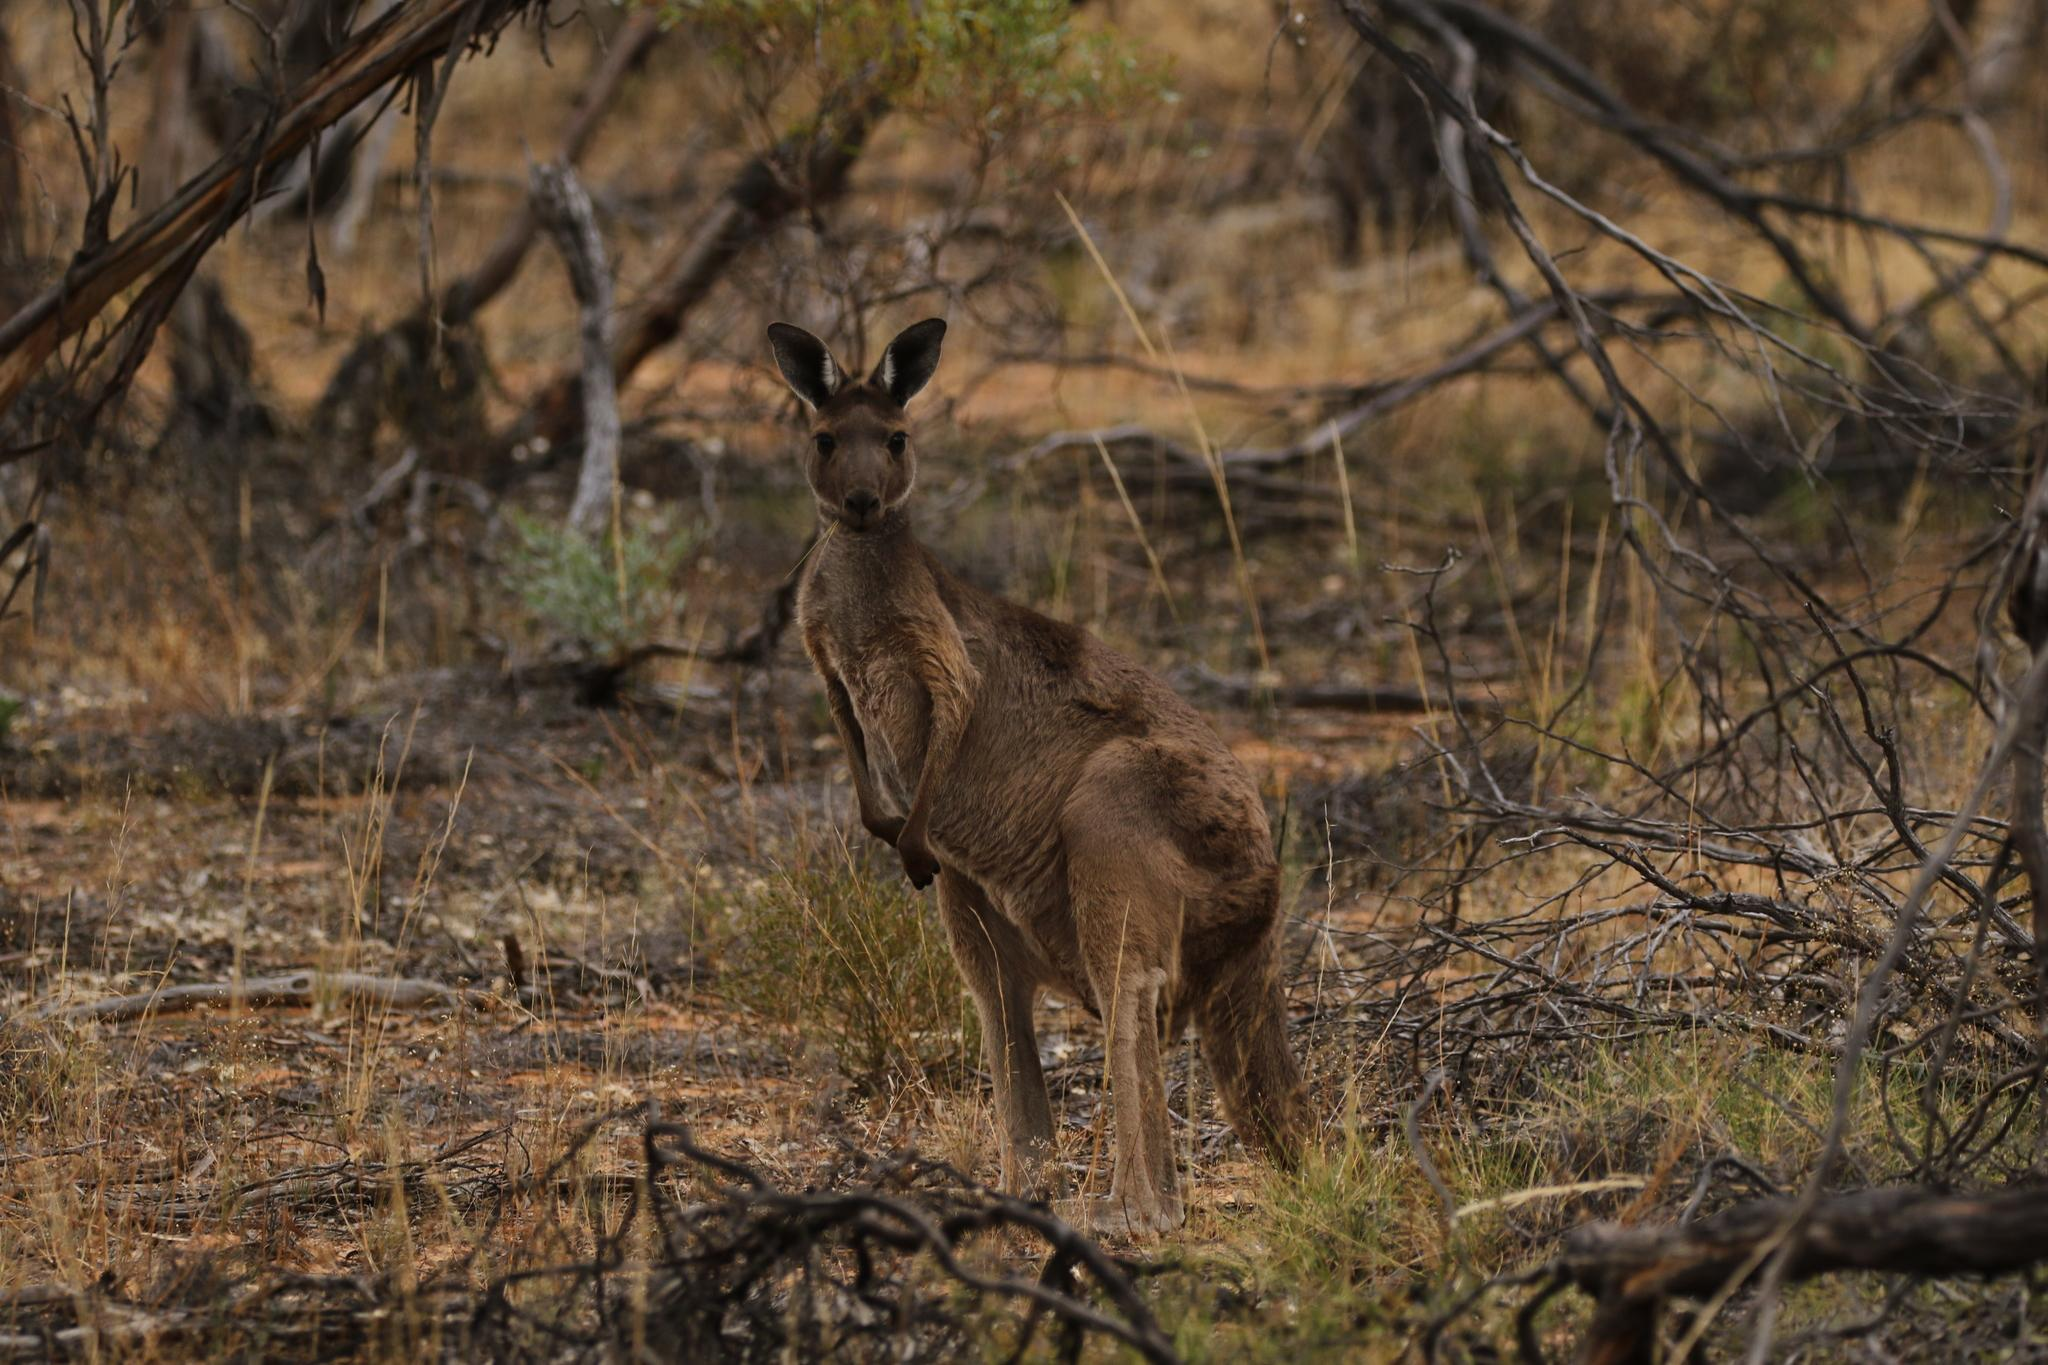Western grey kangaroo: (758, 315, 1447, 1242)
